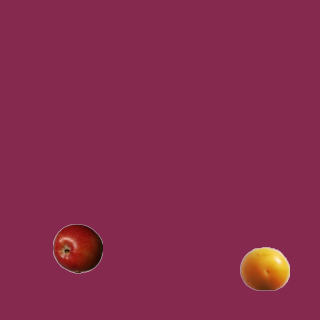Apple Braeburn: (52, 223, 102, 273)
Cherry Wax Yellow: (239, 243, 289, 293)
